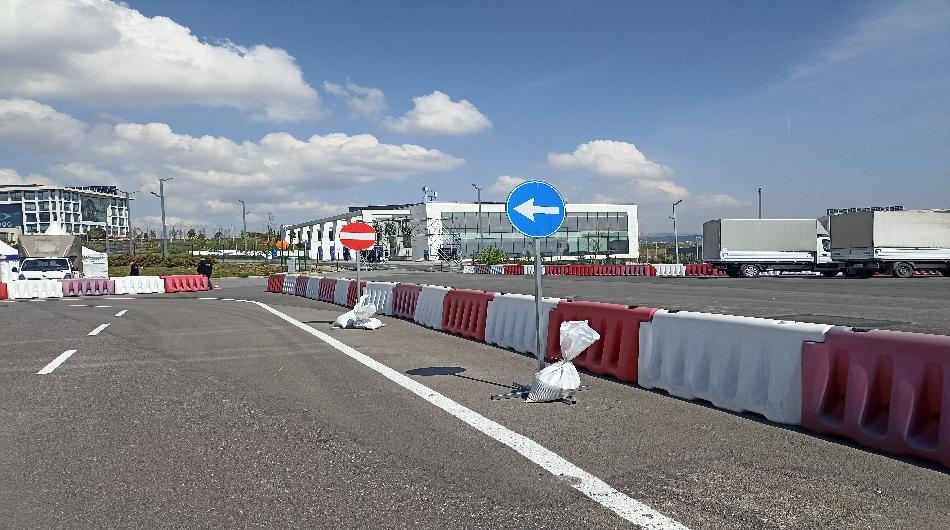girilmez: (339, 221, 377, 252)
sola_mecburi_1: (501, 178, 568, 242)
